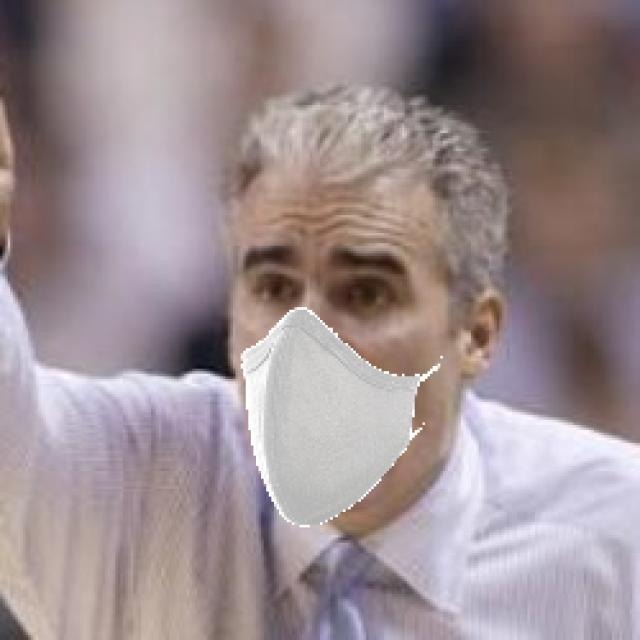mask: (222, 286, 458, 540)
